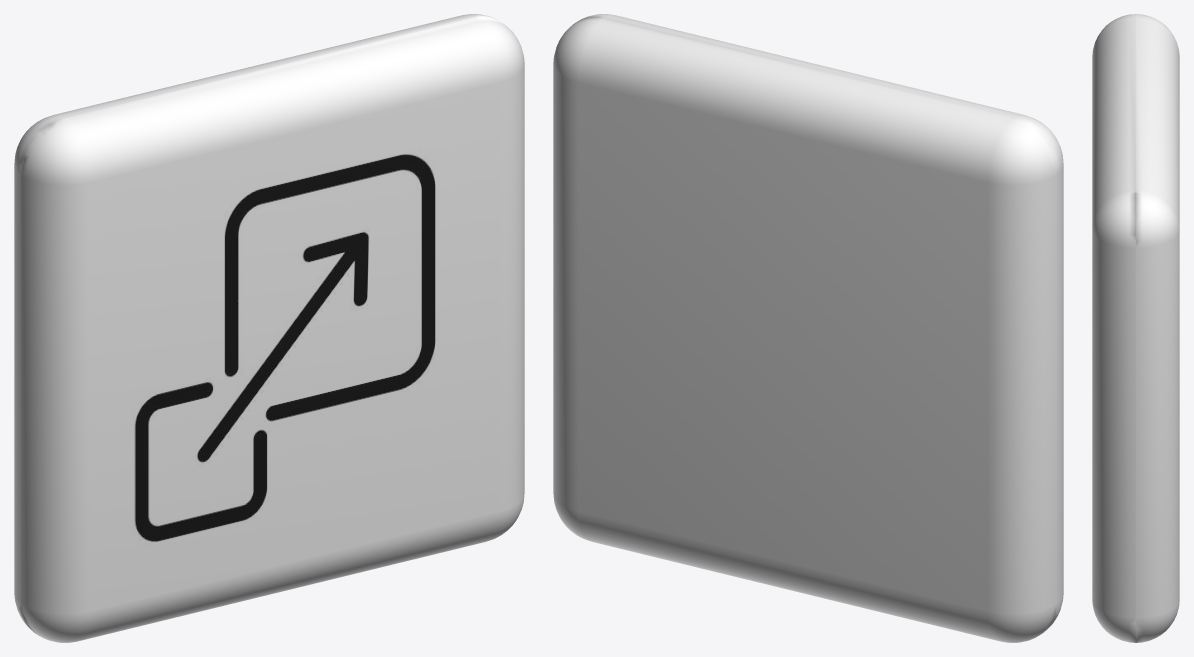
File: scale.glb
3 renders of one model, left to right at view 1: azimuth 30°, elevation 25°; view 2: azimuth 150°, elevation 25°; view 3: azimuth 270°, elevation 25°, orthographic. The views are drawn at different scales.
Visible parts, largest first — view 1: Cube; view 2: Cube; view 3: Cube.
Boxes of the visible parts, x1,y1,x2,y2 form: Cube: [14, 14, 524, 642]; Cube: [553, 14, 1063, 642]; Cube: [1092, 14, 1179, 642].
Size of the model in its own units: 2 by 2 by 0.3535.
Materials: 1 (1 with a texture image).
